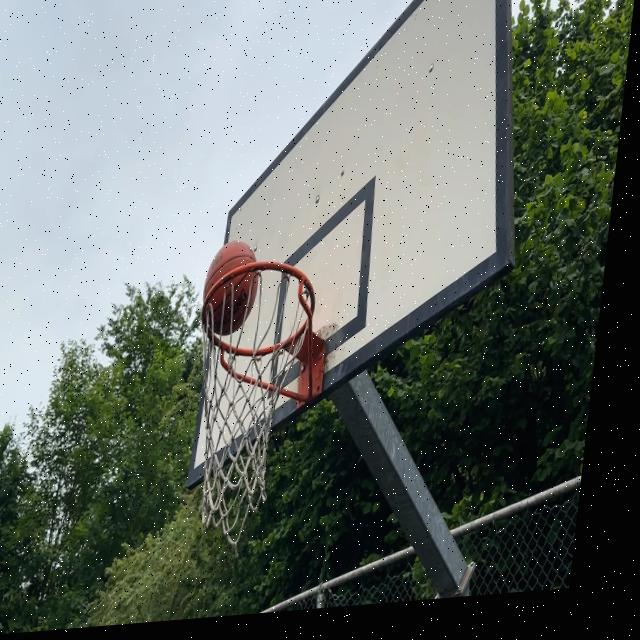rebound_hit: (198, 236, 263, 337)
